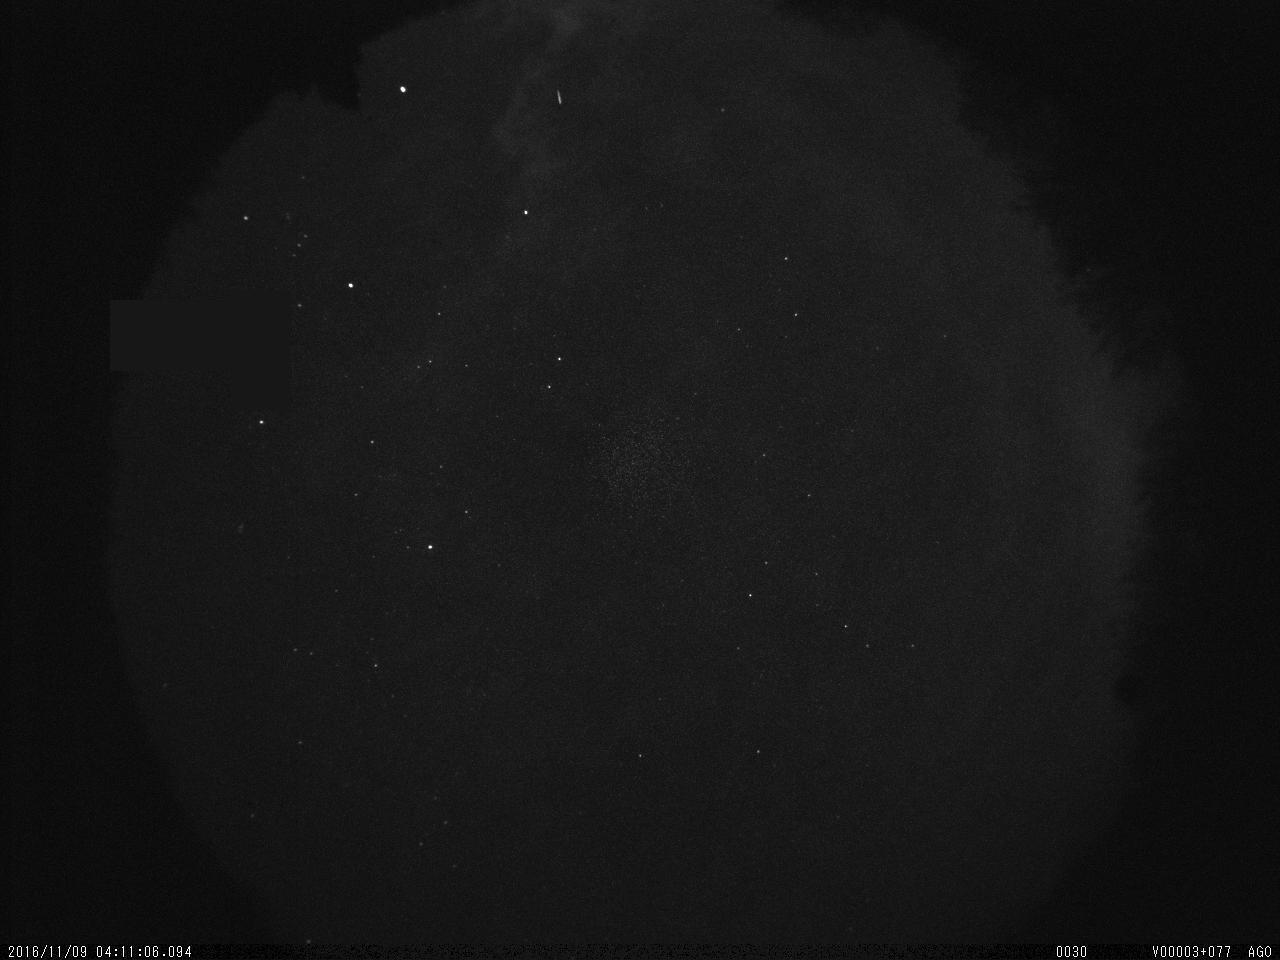meteor: (549, 85, 572, 118)
